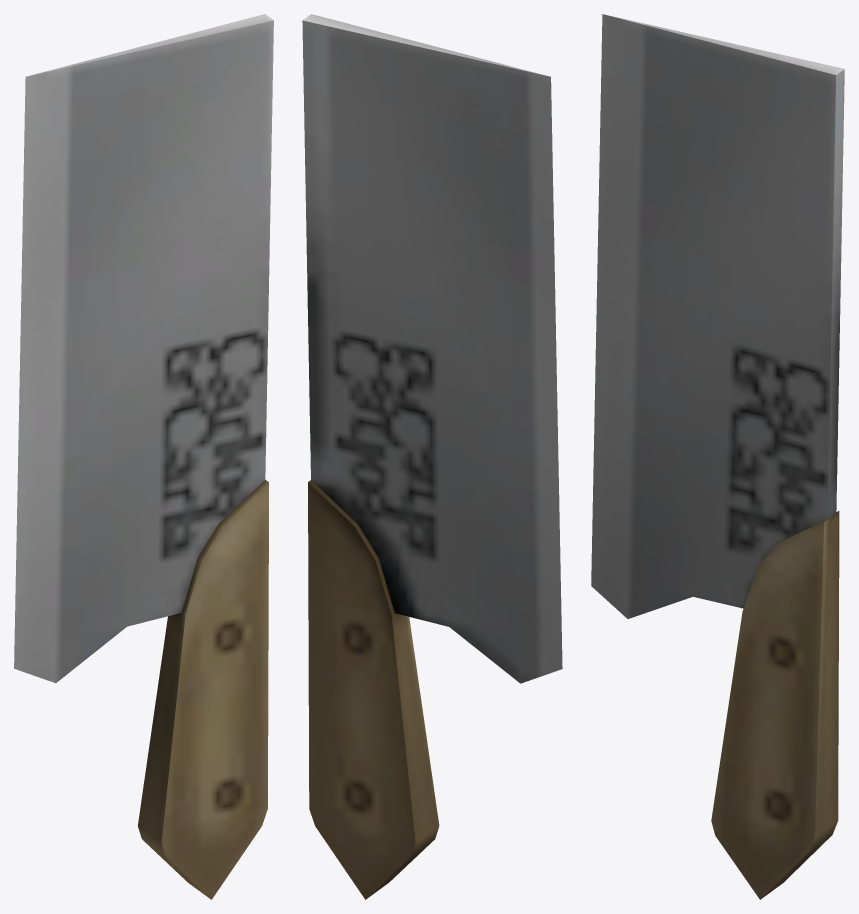
File: cuchillo9.fbx
3 renders of one model, left to right at view 1: azimuth 30°, elevation 25°; view 2: azimuth 150°, elevation 25°; view 3: azimuth 330°, elevation 25°, orthographic. The views are drawn at different scales.
Visible parts, largest first — view 1: s4studio_mesh_1; view 2: s4studio_mesh_1; view 3: s4studio_mesh_1.
Part boxes in pixels (<box>): s4studio_mesh_1: <box>14,14,273,899</box>; s4studio_mesh_1: <box>302,14,562,899</box>; s4studio_mesh_1: <box>591,14,844,899</box>.
Size of the model in its own units: 13.37 by 42.84 by 2.15.
Materials: 1 (1 with a texture image).
